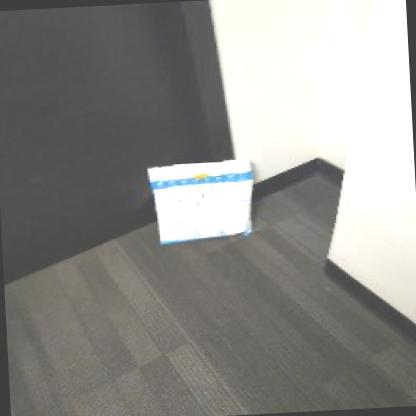plastic_bag: (145, 157, 257, 245)
